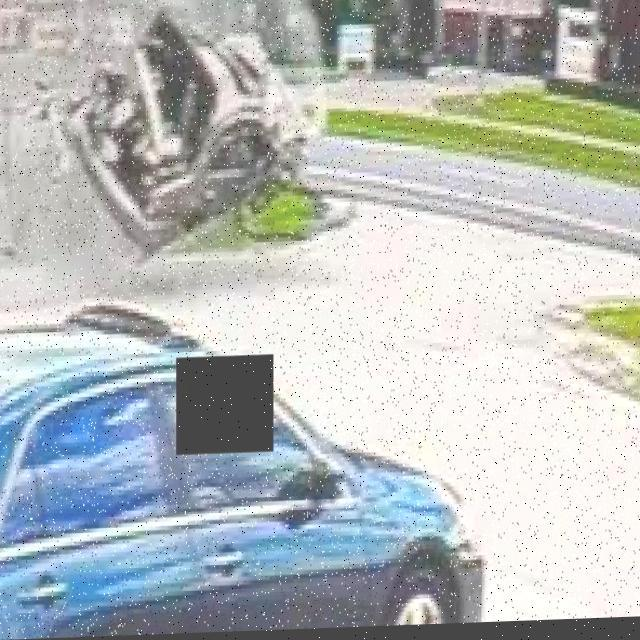single accident: (44, 26, 409, 229)
